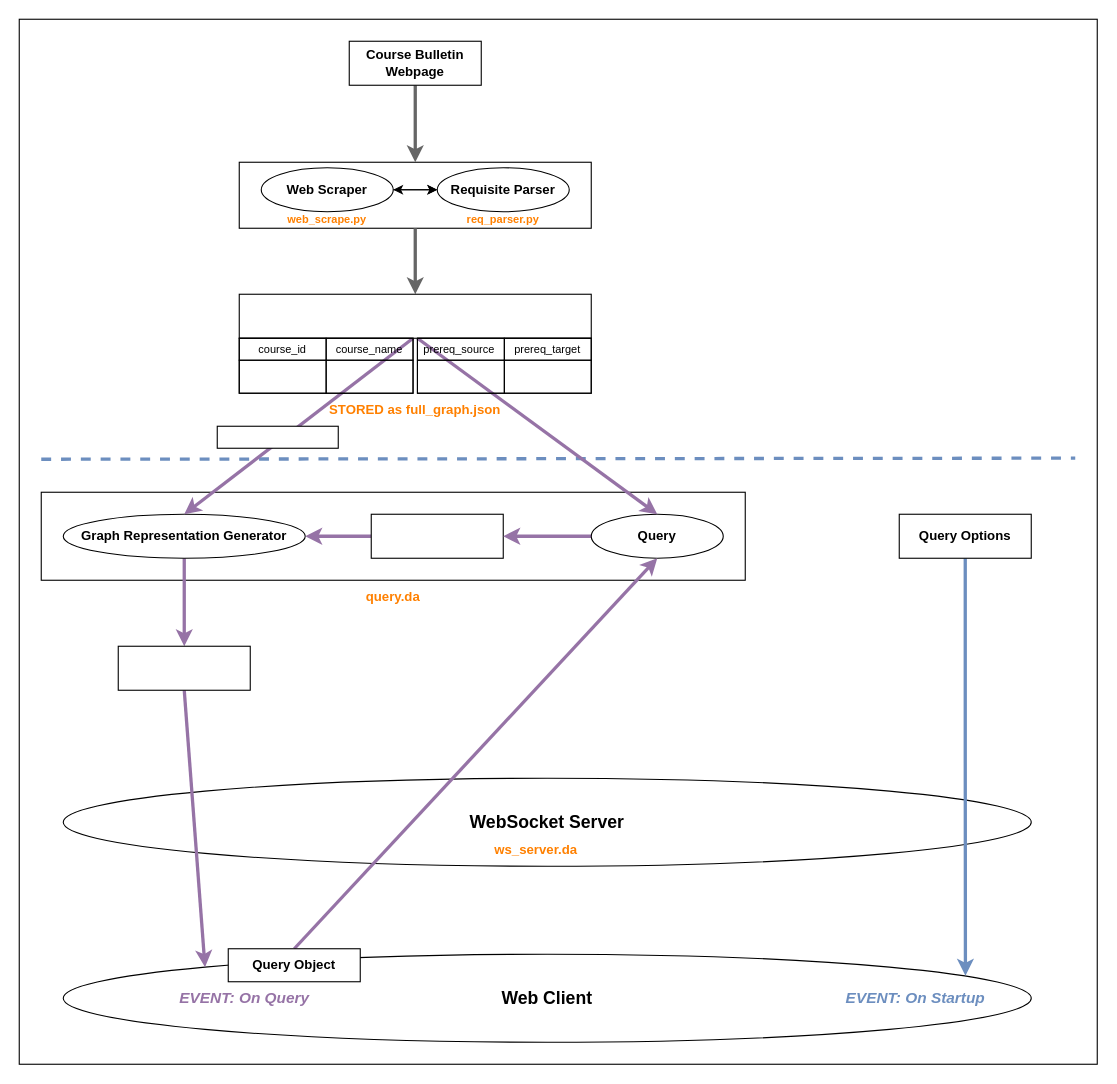
This 1117x1084 diagram has some shape labels left out. Here are the shapes that lost their labels. From the top down, the centre of each, then its label:
point (414, 315): Full Graph
point (277, 436): All Prereq Relations
point (436, 535): List of Courses
point (183, 667): Graph JSON
